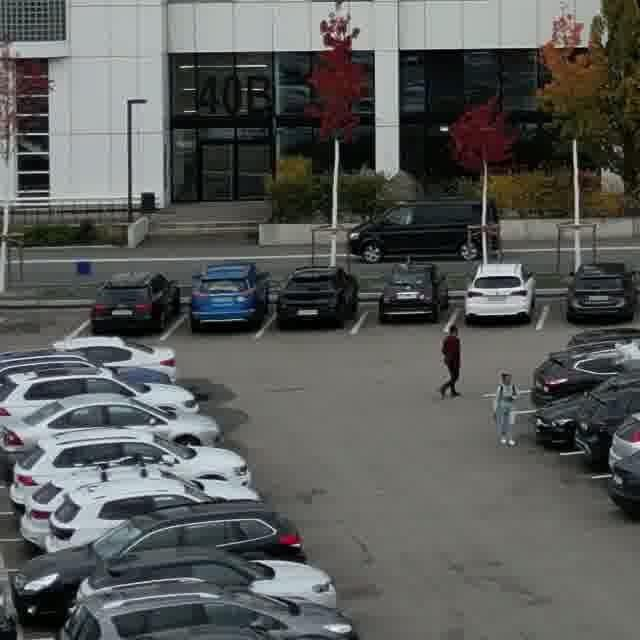Drohne: (587, 340, 639, 359)
